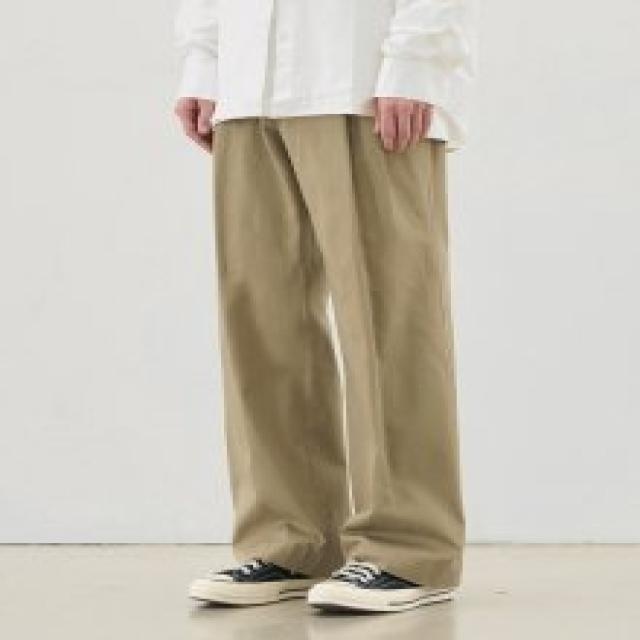long-pants: (212, 109, 466, 596)
